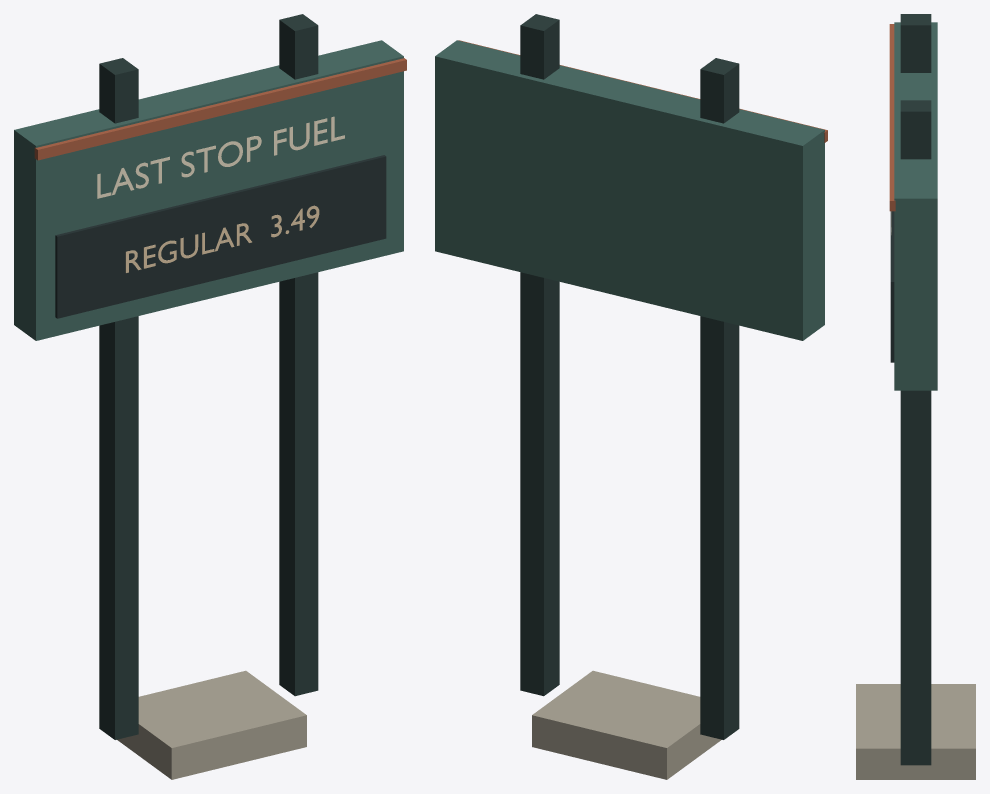
Rendered from last_stop_price_sign.glb.
3 views of the same model, side by side, from view 1: azimuth 30°, elevation 25°; view 2: azimuth 150°, elevation 25°; view 3: azimuth 270°, elevation 25° (orthographic).
Parts seen in each view (by area): view 1: Main sign cabinet, Price display board, Sign post.001, Sign post, Sign footing, Sign border strip, LAST STOP FUEL.001, REGULAR 3.49; view 2: Main sign cabinet, Sign post.001, Sign post, Sign footing; view 3: Sign post.001, Main sign cabinet, Sign footing, Sign post, Sign border strip, Price display board.
Boxes of the visible parts, x1,y1,x2,y2 form: Main sign cabinet: (14, 40, 403, 340); Price display board: (55, 155, 386, 318); Sign post.001: (279, 14, 318, 696); Sign post: (99, 58, 138, 739); Sign footing: (117, 670, 306, 779); Sign border strip: (34, 58, 406, 160); LAST STOP FUEL.001: (97, 116, 344, 198); REGULAR 3.49: (125, 205, 319, 272); Main sign cabinet: (435, 40, 824, 340); Sign post.001: (520, 14, 559, 696); Sign post: (700, 58, 739, 739); Sign footing: (532, 670, 721, 779); Sign post.001: (900, 100, 931, 765); Main sign cabinet: (894, 22, 937, 390); Sign footing: (856, 684, 975, 779); Sign post: (900, 14, 931, 72); Sign border strip: (889, 24, 895, 211); Price display board: (890, 211, 894, 362).
Bounding box in the file's own units: 2.95 × 5.32 × 0.843.
